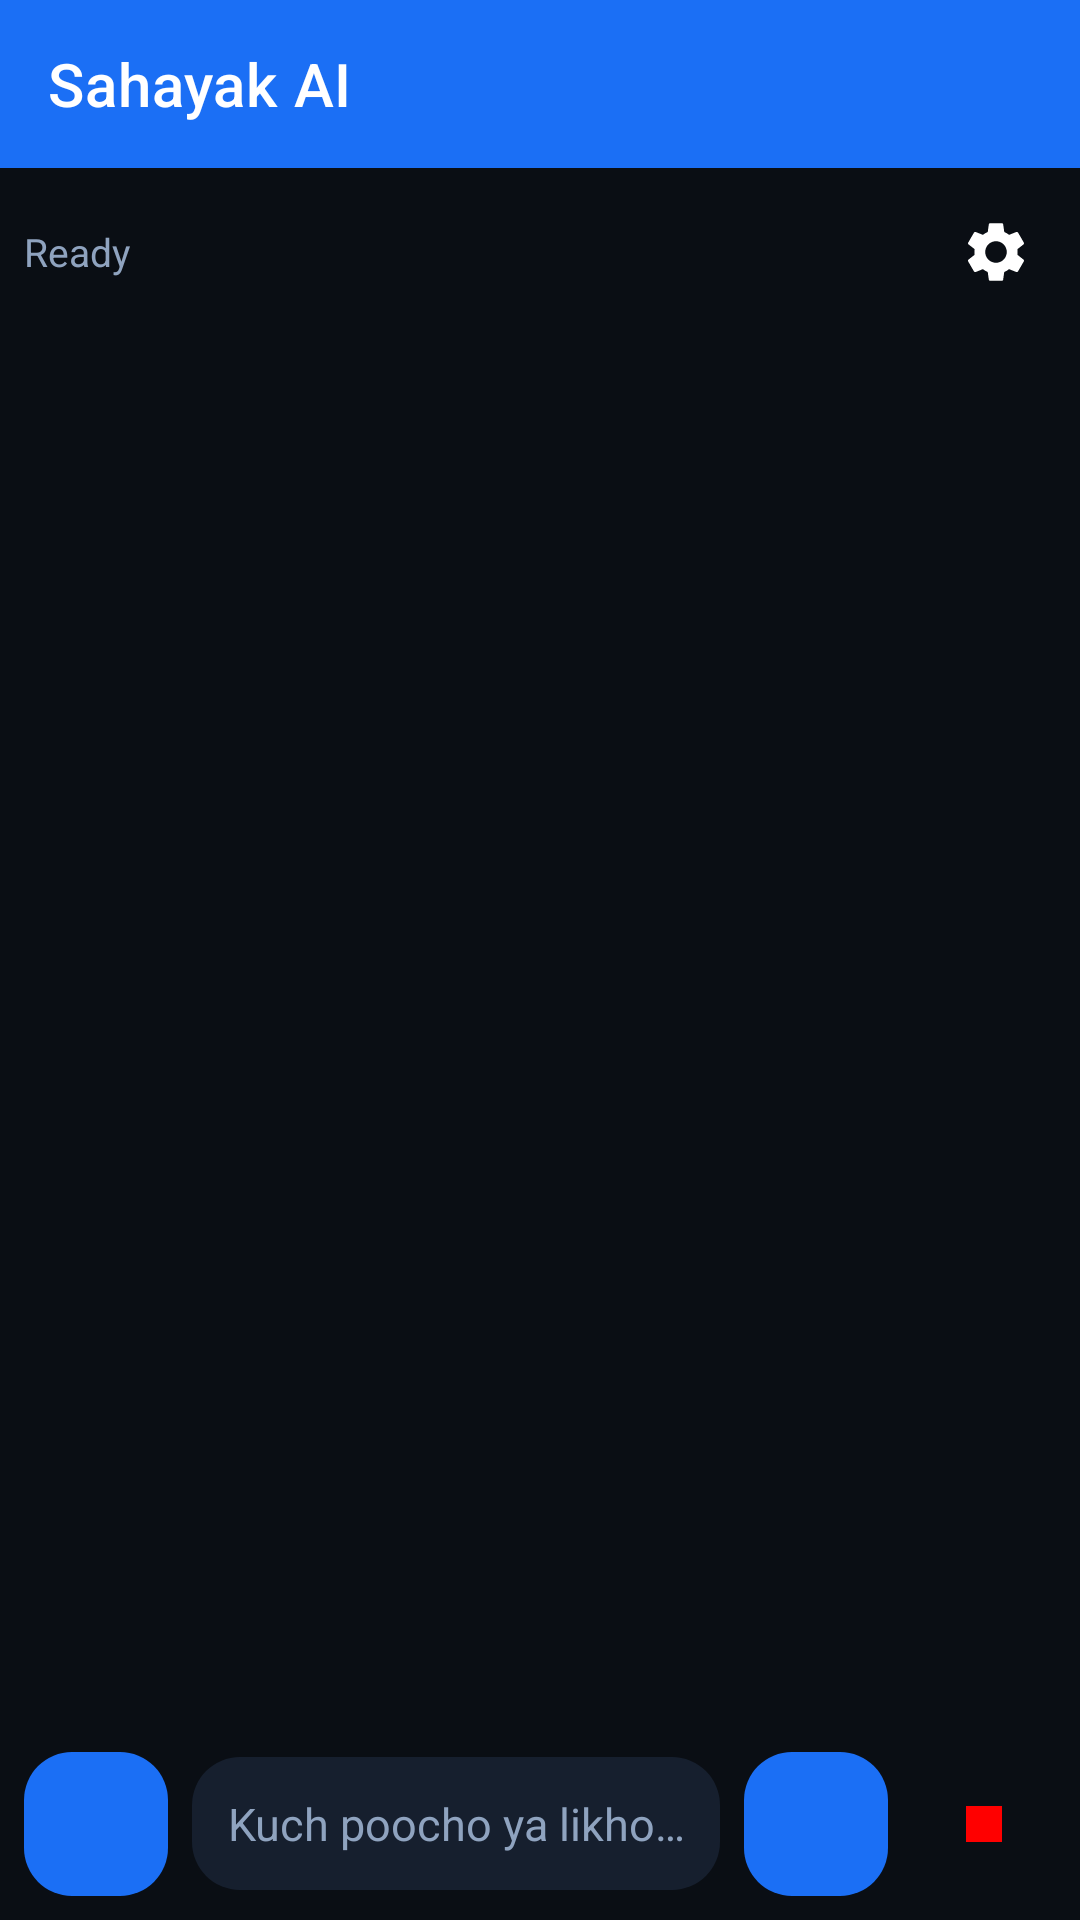

Screen size 1080×1920. Icon name, then its center in pixels as point (x, y):
Settings: point (996, 252)
